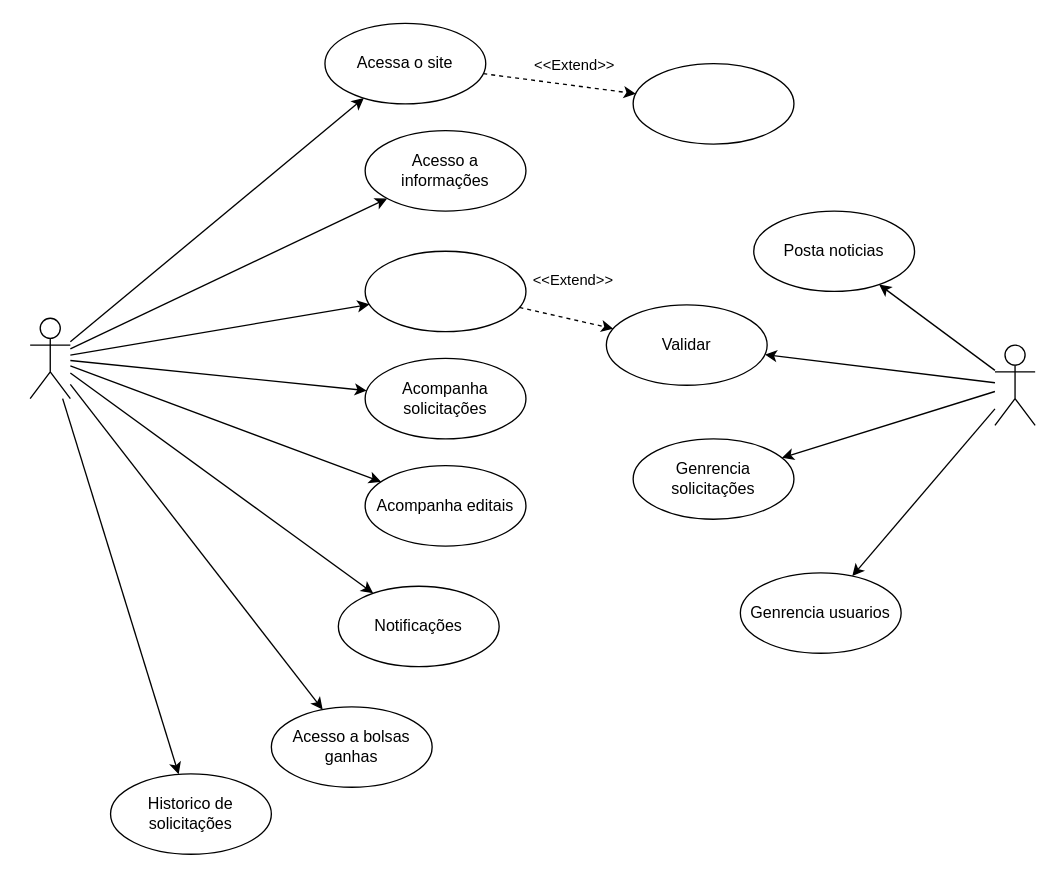
This 1059x878 diagram has some shape labels left out. The shapes that lost their labels are listed below. From the top down, each one's centre as x and y in pixels, then its label:
At point 713,103: "Efetua login".
At point 445,291: "Solicita bolsa/serviços".
At point 49,358: "Usuario".
At point 1014,384: "ADM".
